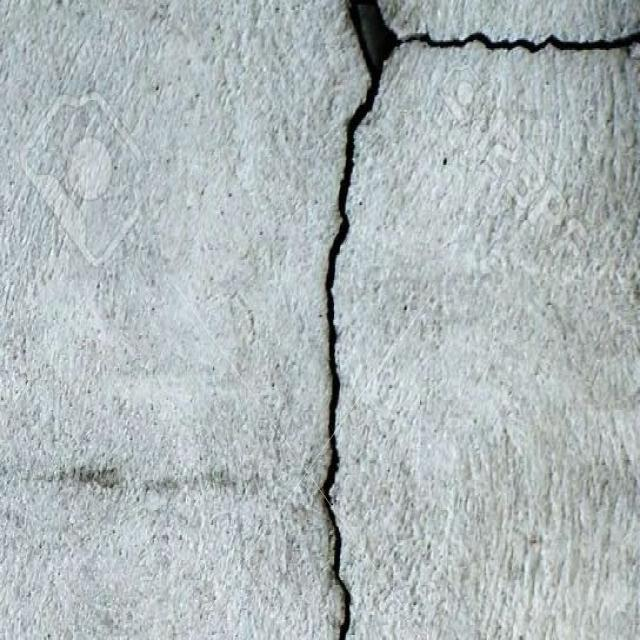crack: (342, 4, 637, 132), (321, 134, 368, 638)
